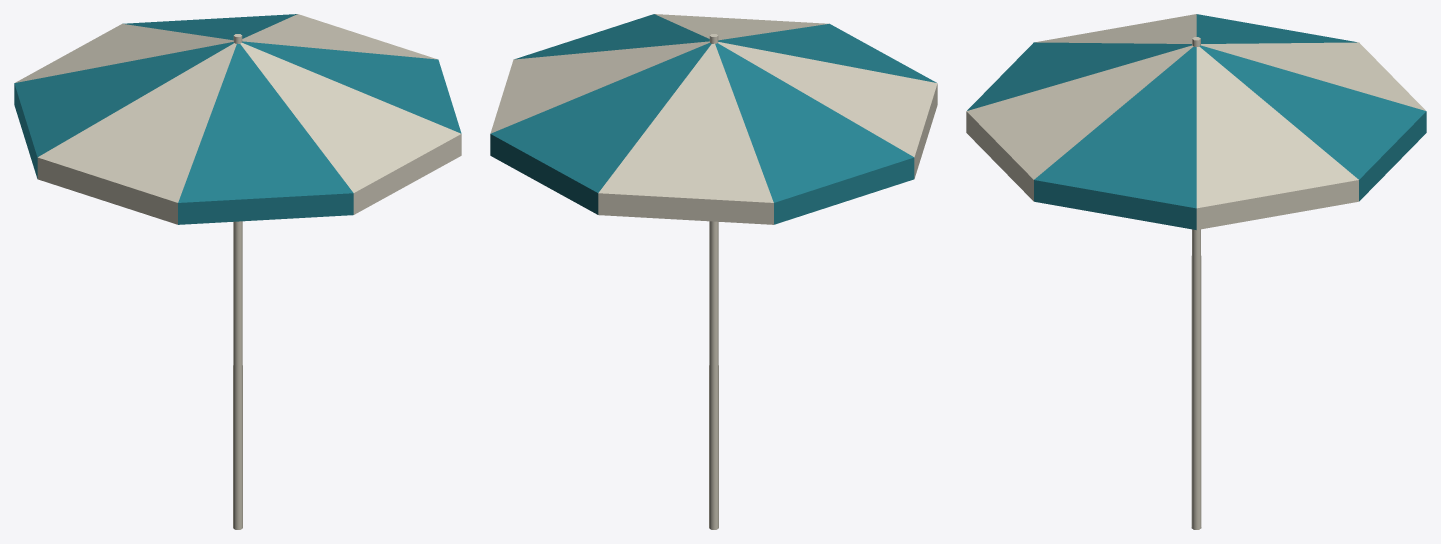
The model's file is beach_umbrella.glb.
The picture shows the model from 3 angles, left to right: view 1: azimuth 30°, elevation 25°; view 2: azimuth 150°, elevation 25°; view 3: azimuth 270°, elevation 25°; orthographic projection.
Parts seen in each view (by area): view 1: Umbrella; view 2: Umbrella; view 3: Umbrella.
Part boxes in pixels (x1,y1,x2,y2): Umbrella: (14,14,461,529); Umbrella: (490,14,937,529); Umbrella: (966,14,1426,529).
Size of the model in its own units: 2.3 by 2.7 by 2.3.
Materials: 1 (1 with a texture image).
